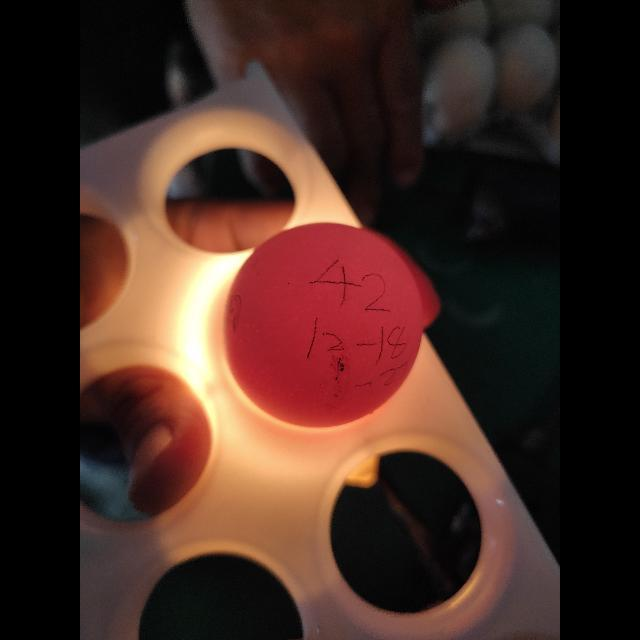A - Good: (209, 212, 435, 434)
